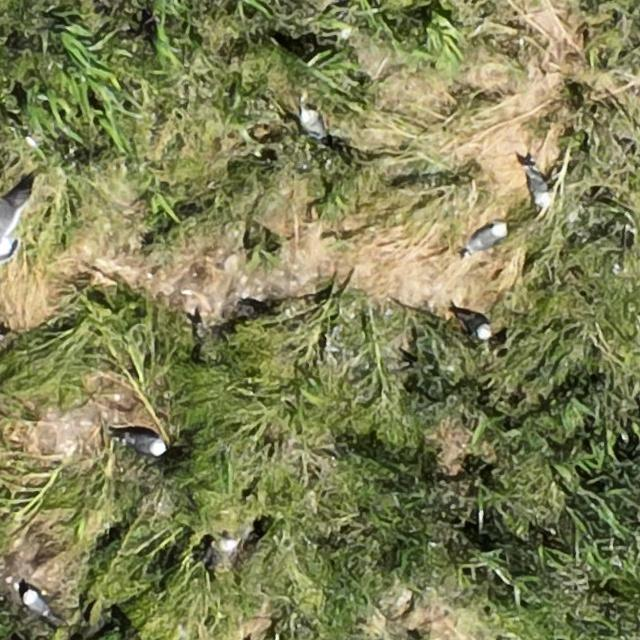F: (2, 177, 37, 255)
umineko: (124, 434, 164, 456), (460, 311, 491, 338), (468, 226, 503, 249), (300, 110, 324, 139), (529, 173, 549, 207), (23, 590, 48, 617)
